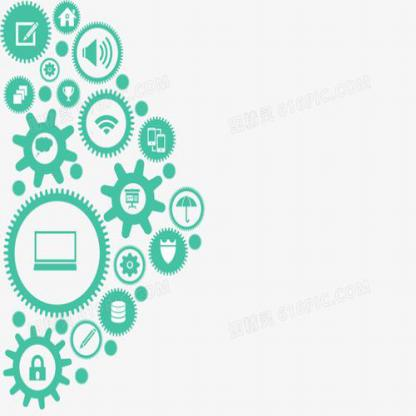FOD: (1, 187, 112, 322)
